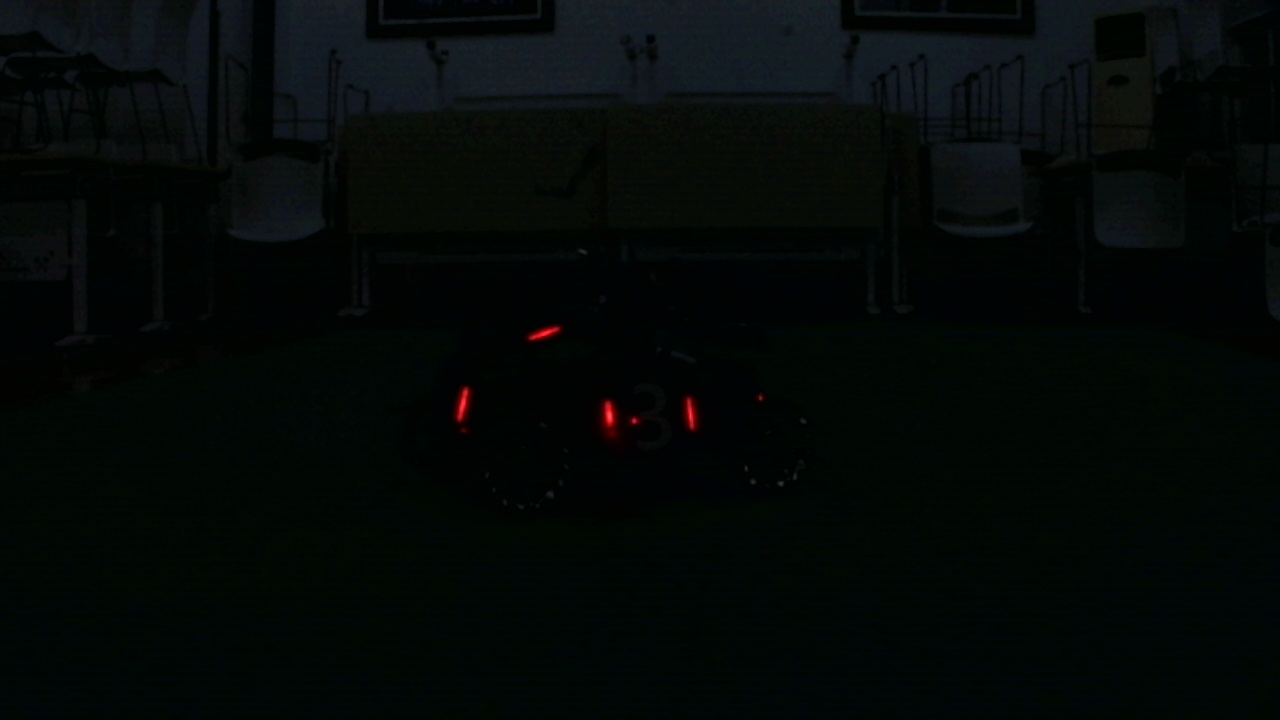lamp: (447, 382, 469, 421), (684, 398, 700, 429), (600, 401, 619, 427)
pair1: (604, 395, 700, 431)
